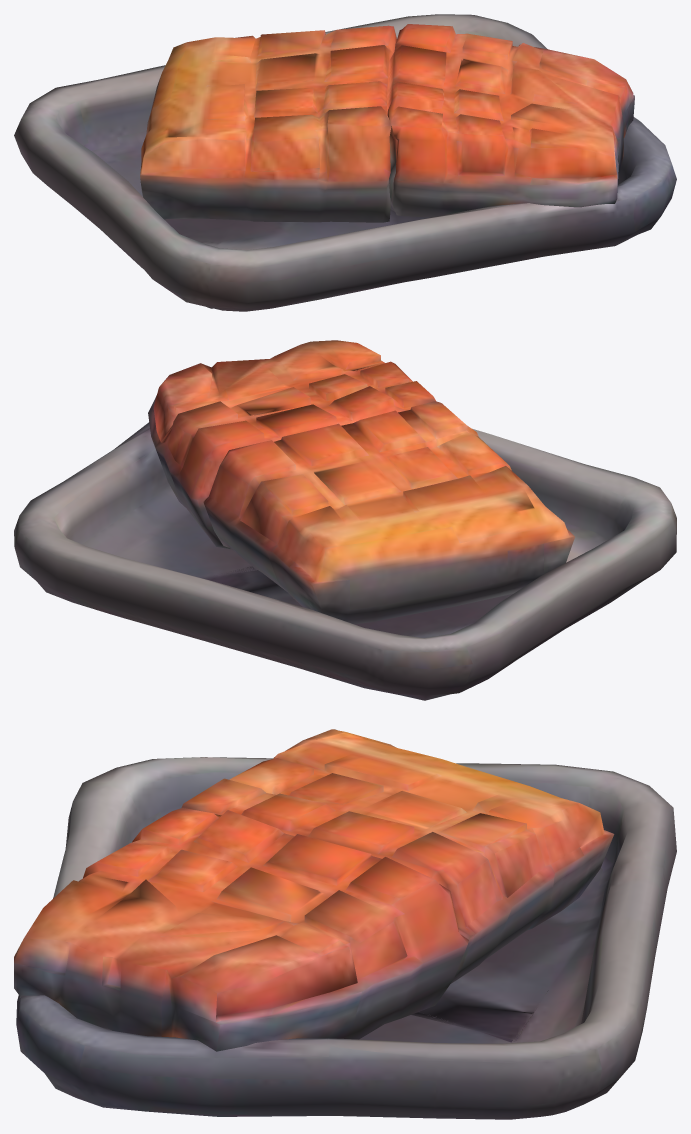
File: tuna.glb
The picture shows the model from 3 angles, top to bottom: view 1: azimuth 30°, elevation 25°; view 2: azimuth 150°, elevation 25°; view 3: azimuth 270°, elevation 25°; orthographic projection. The views are drawn at different scales.
Visible parts, largest first — view 1: Tuna; view 2: Tuna; view 3: Tuna.
Boxes of the visible parts, left/top/right/bottom form: Tuna: left=14, top=14, right=676, bottom=311; Tuna: left=14, top=340, right=676, bottom=700; Tuna: left=14, top=729, right=676, bottom=1119.
Bounding box in the file's own units: 1.91 × 0.5238 × 1.73.
Materials: 1 (1 with a texture image).
